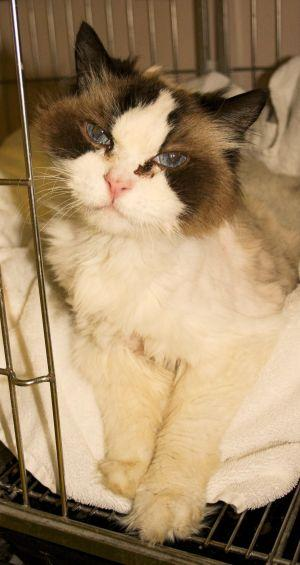ragdoll: (33, 17, 278, 261)
